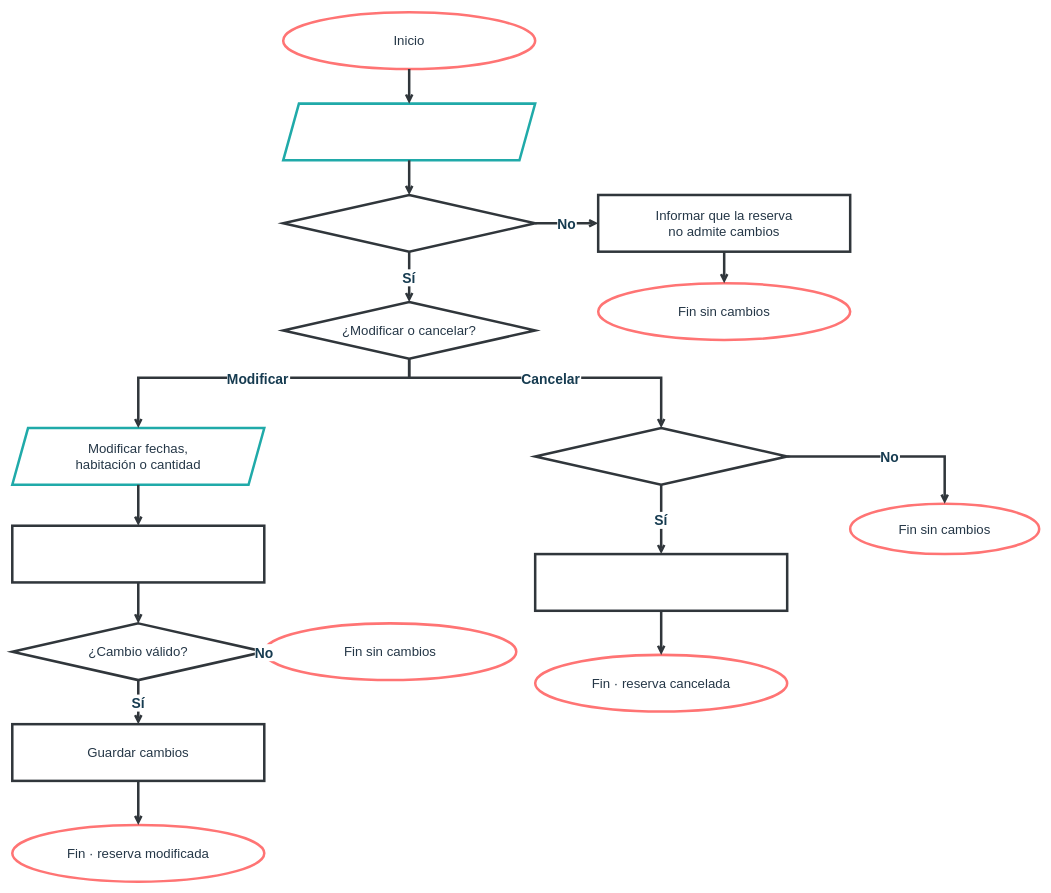
Some shapes in this 1051 by 893 pixel diagram are drawn without their labels. The box of each missing label's shape, as (x1, y1, x2, y2) in pixels:
Marcar CANCELADA y liberar disponibilidad: (534, 553, 788, 612)
Seleccionar reserva: (282, 102, 536, 161)
Validar datos y disponibilidad: (11, 524, 265, 583)
¿Confirma la cancelación?: (534, 427, 788, 486)
¿Reserva REGISTRADA?: (282, 193, 536, 253)
